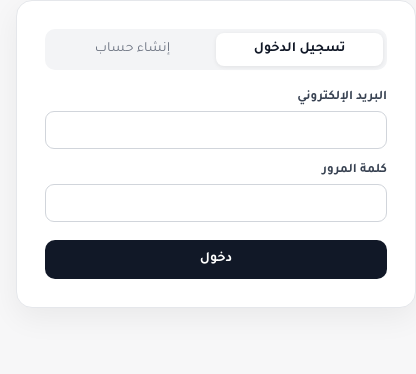
Test: AuthForm › displays server-side errors
Step 1. Type "a@b.com" into the field labelled "البريد الإلكتروني" → point(216, 130), box x1=45 y1=111 x2=387 y2=149
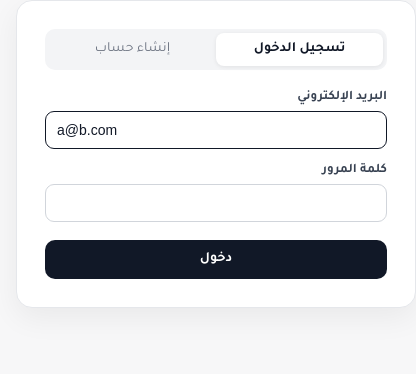
Step 2. Type "secret" into the password field labelled "كلمة المرور" → point(216, 203), box x1=45 y1=184 x2=387 y2=222
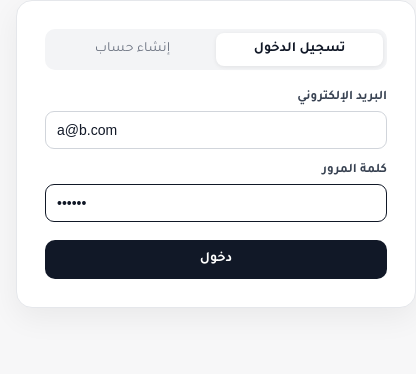
Step 3. Click the button "دخول" → point(216, 260), box x1=45 y1=240 x2=387 y2=279
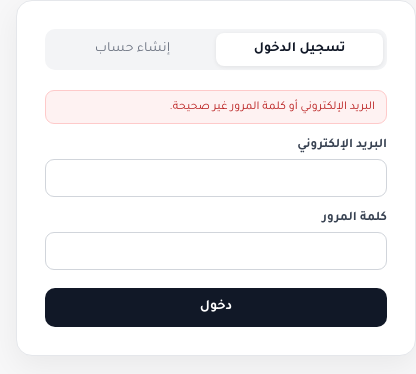
Check: the message reads "البريد الإلكتروني أو كلمة المرور غير صحيحة.", box x1=170 y1=101 x2=375 y2=113
